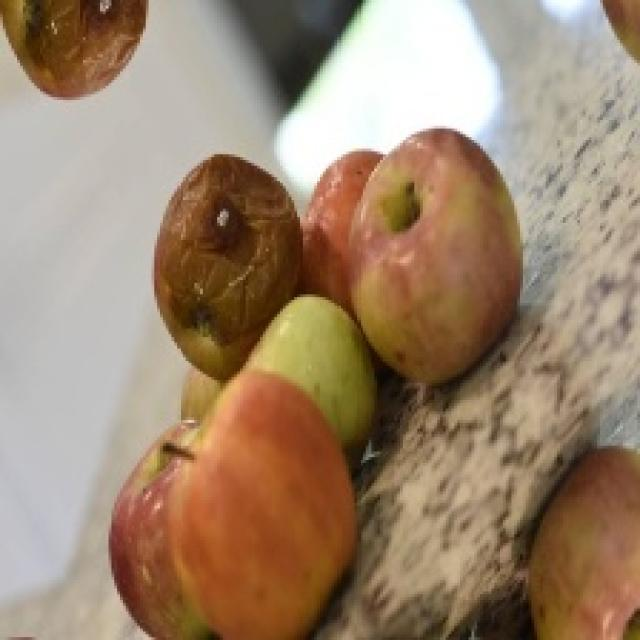rotten_apple: (155, 156, 294, 358), (0, 0, 147, 99)
